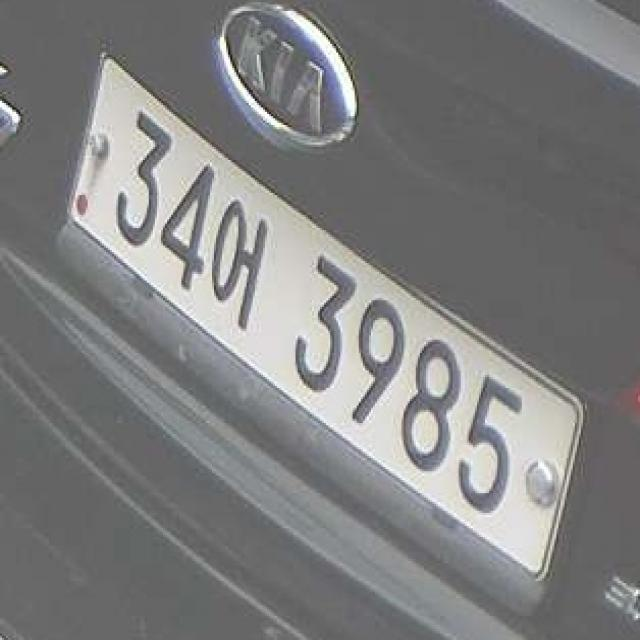3: (287, 250, 357, 394), (110, 110, 173, 252)
4: (157, 160, 212, 289)
5: (452, 370, 524, 515)
8: (398, 329, 458, 471)
9: (348, 292, 406, 423)
eo: (206, 195, 267, 331)
license_plate: (65, 50, 589, 583)
